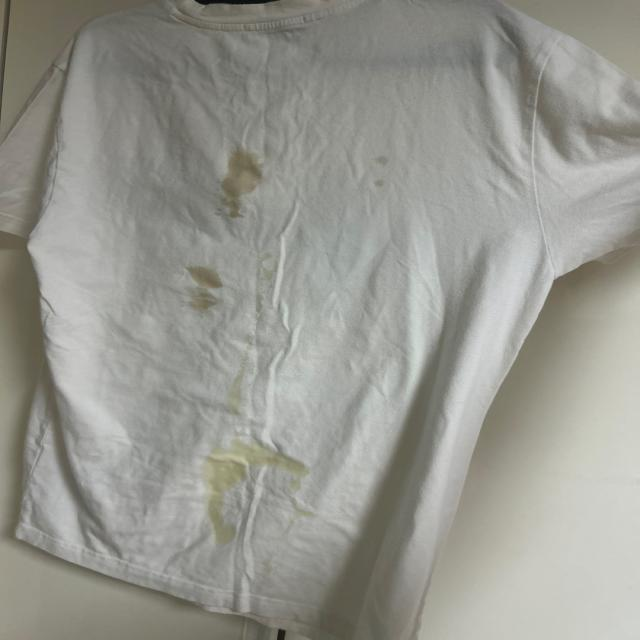stain: (203, 444, 283, 542), (220, 152, 268, 223), (178, 265, 222, 306), (247, 251, 288, 289), (271, 446, 312, 476), (283, 482, 314, 518), (226, 358, 246, 412), (367, 150, 390, 193)
